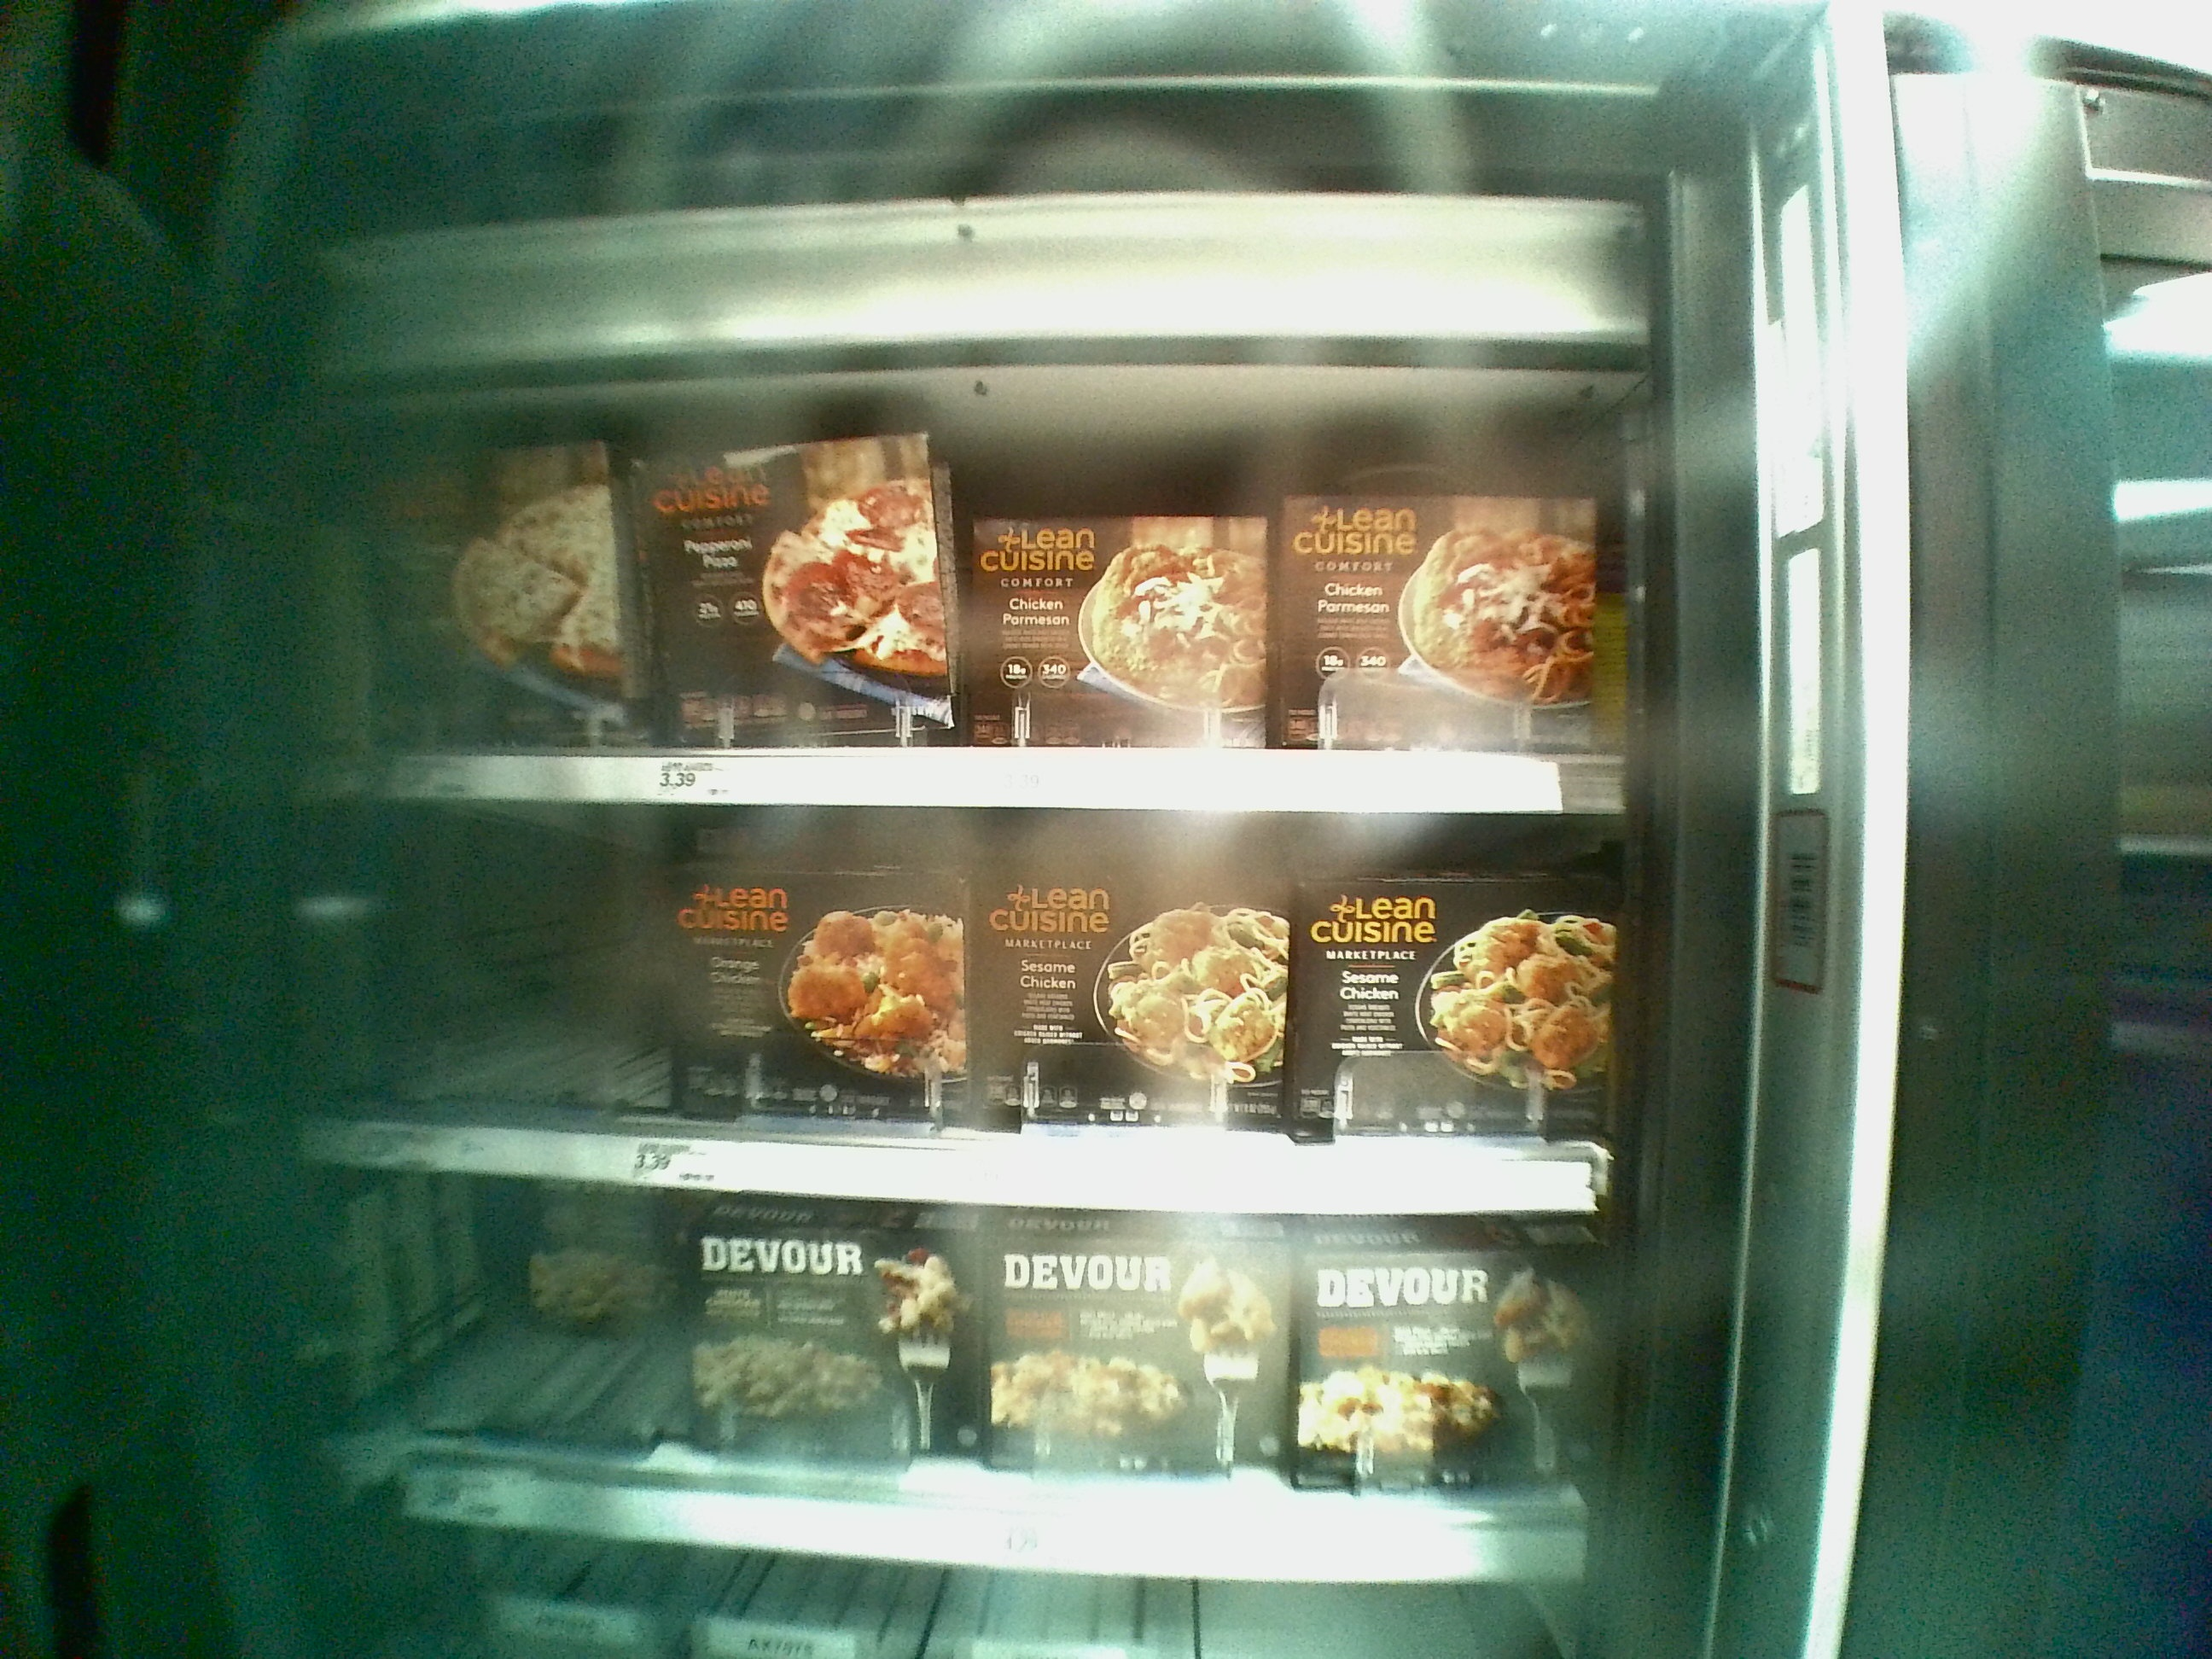shelf: (319, 373, 1641, 812), (320, 803, 1622, 1229), (291, 1188, 1622, 1589)
